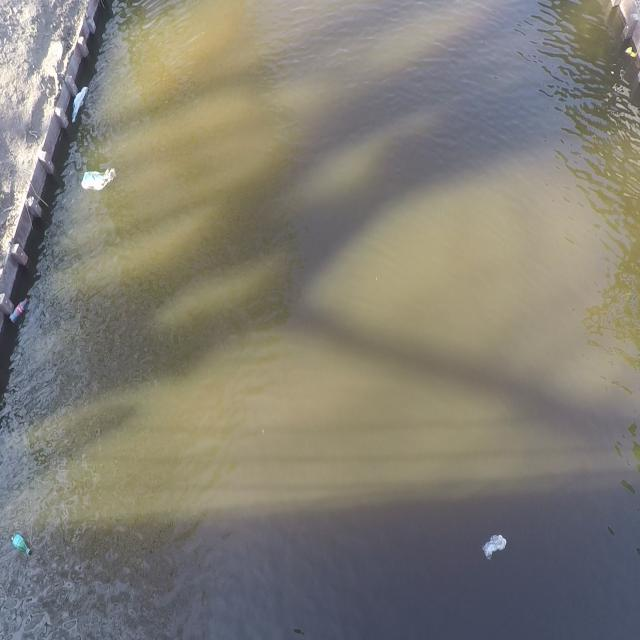Bouteille plastique: (9, 533, 36, 563)
